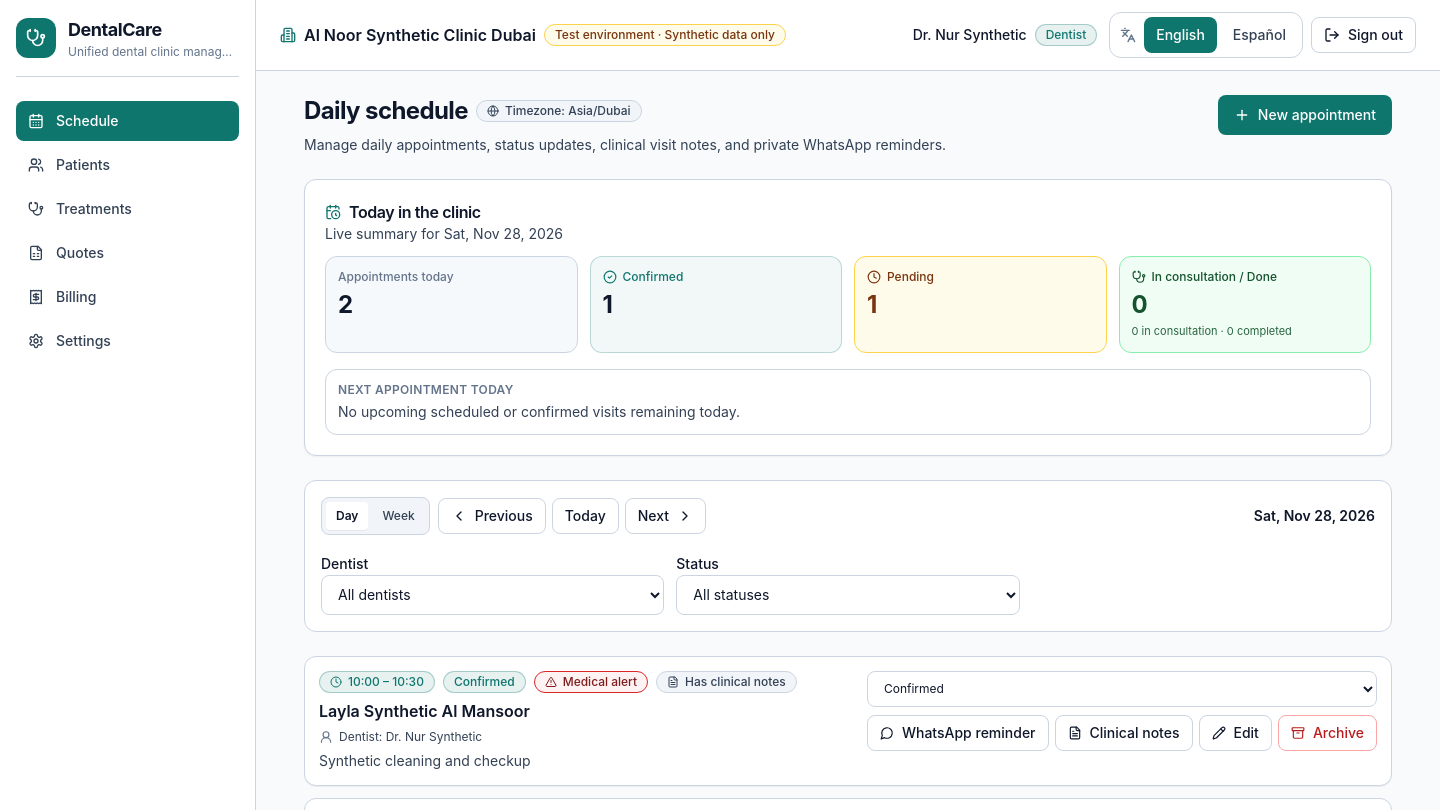
Test case: T-08 Schedule, Daily Summary Panel & Clinical Notes UI Flow › 6. switches EN <-> ES cleanly without exposing raw internal enum strings
Check: the text "Today in the clinic" is shown, box [349,200,481,224]
Click the button with aria-label "Switch language to Spanish".
click(1259, 35)  # box [1221,17,1298,53]
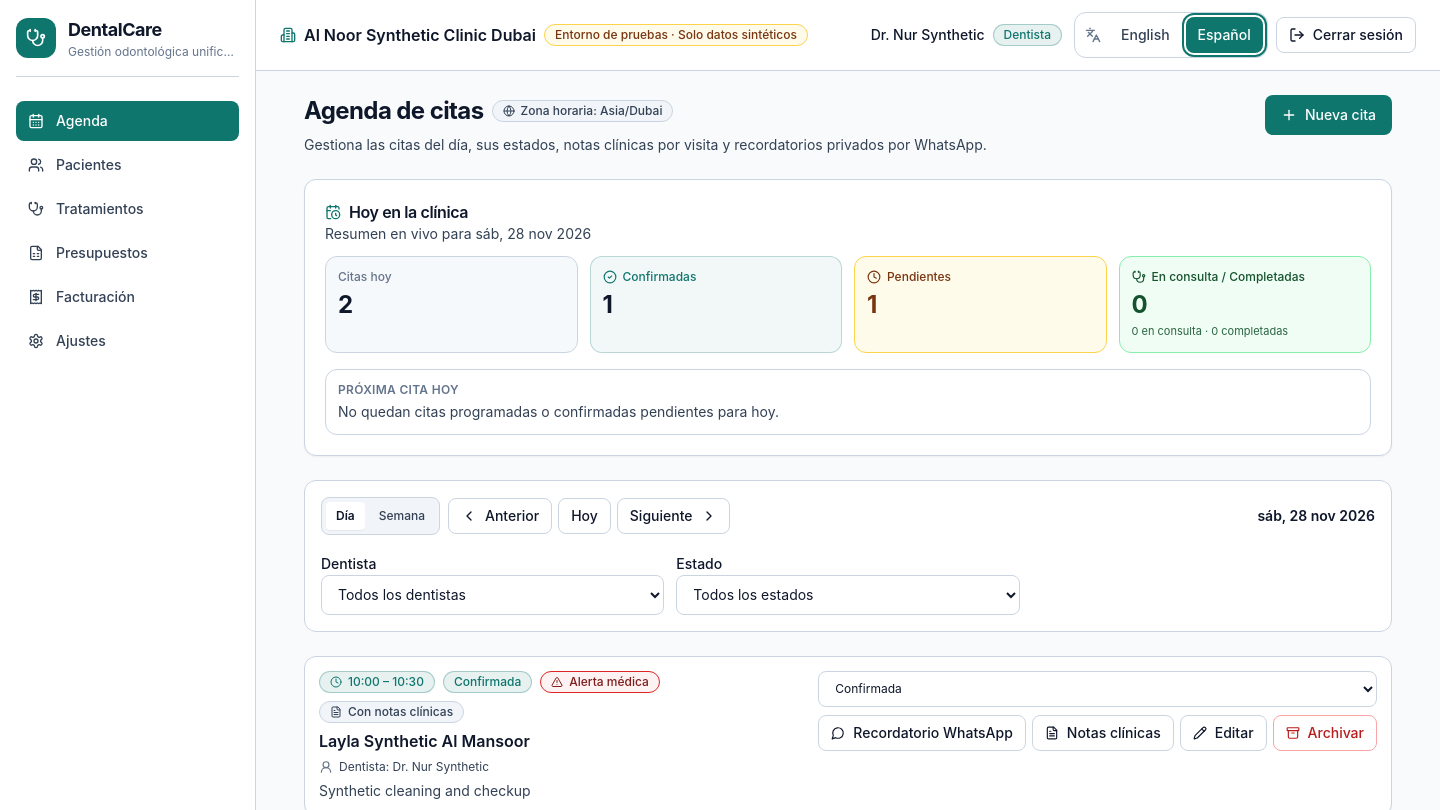
Check: the heading "Agenda de citas" is shown, box [304,95,484,127]
Check: the text "Hoy en la clínica" is shown, box [349,200,468,224]
